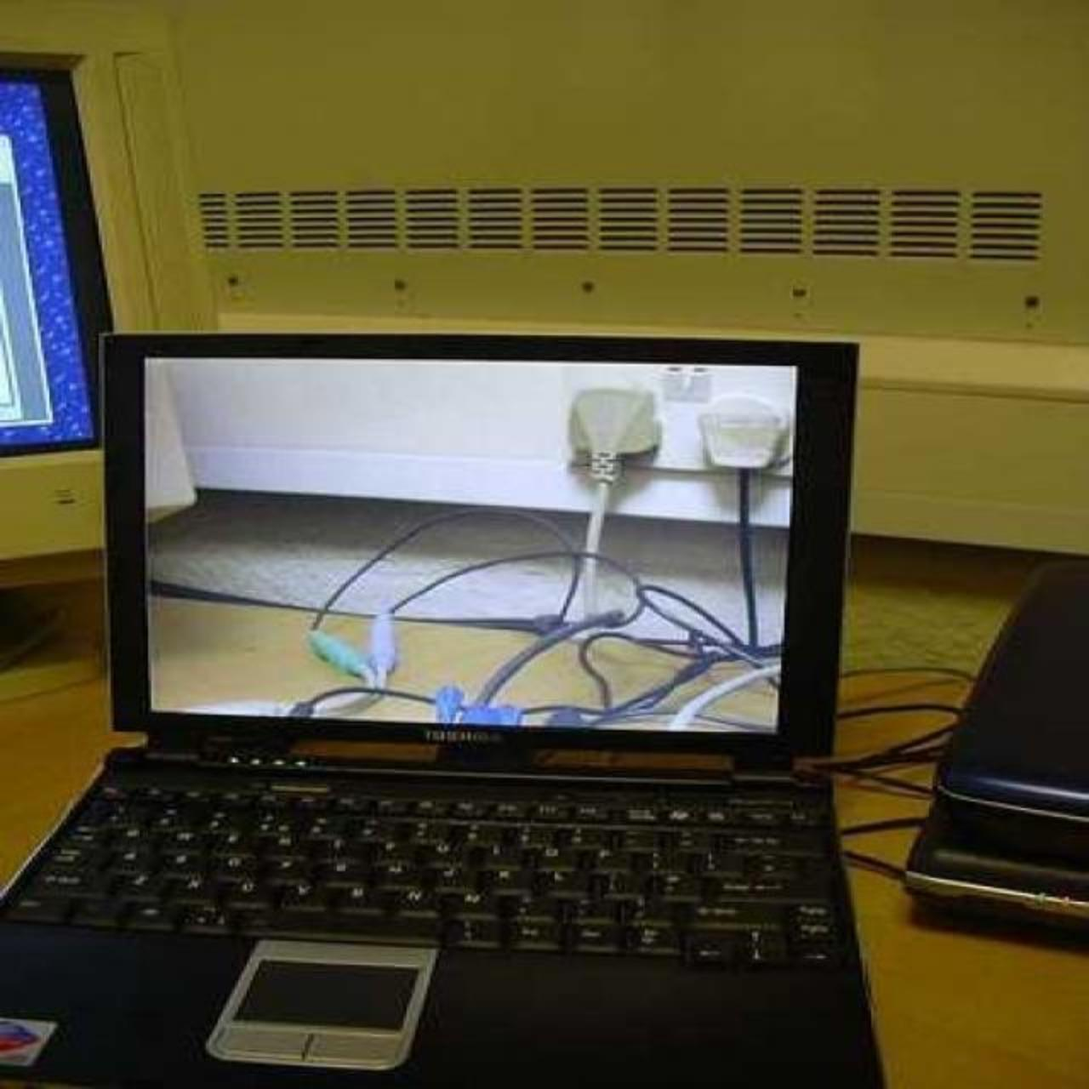laptop: (34, 313, 949, 1089)
